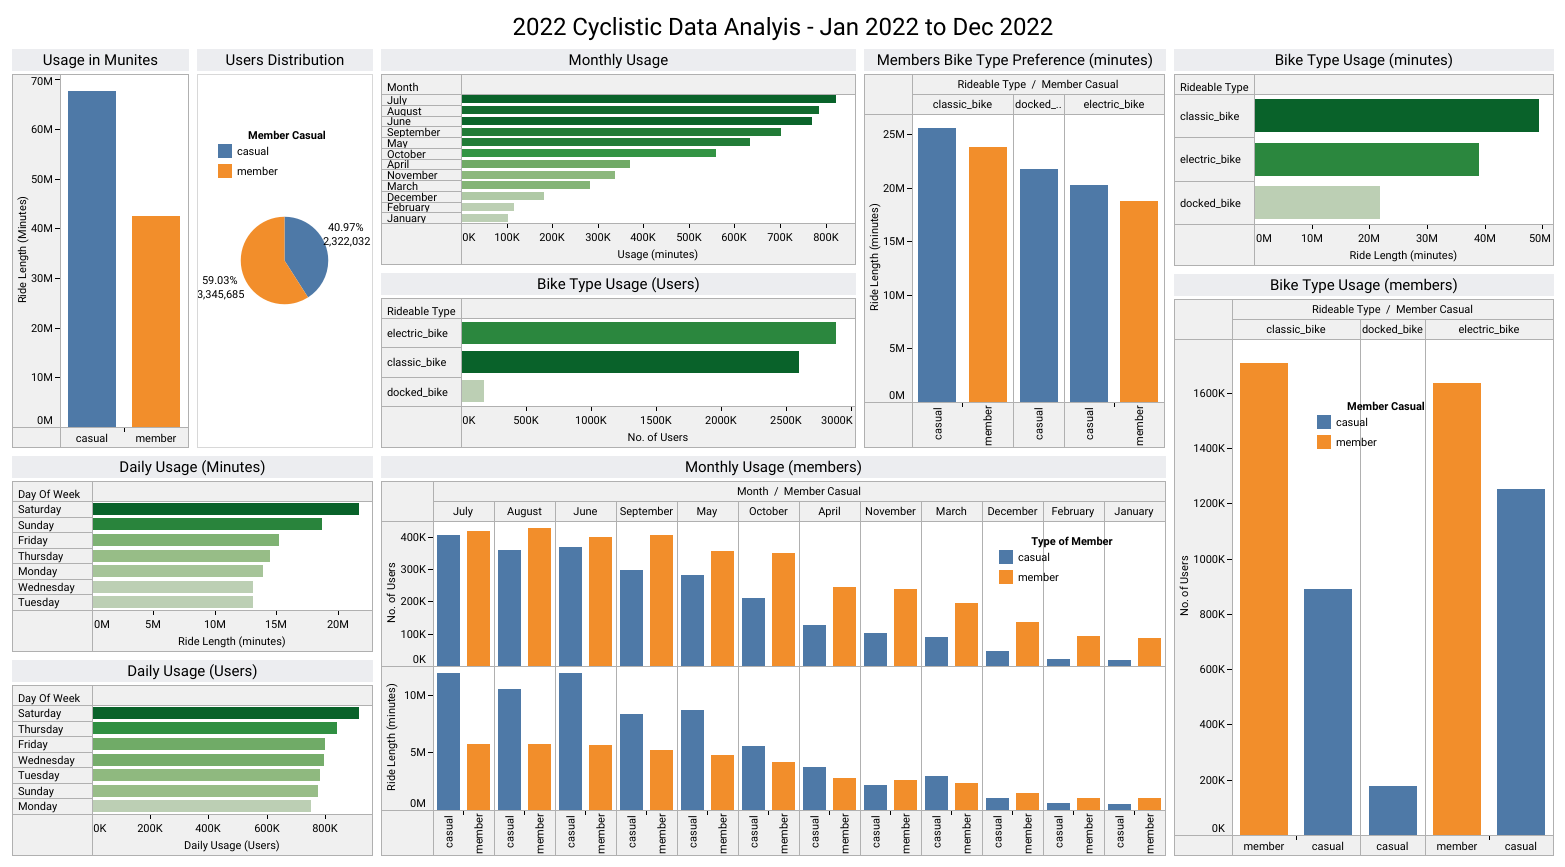

Layout of this report page (visuals, bound fields, positions):
{"tool":"tableau","page":{"name":"Dashboard 1","canvas":[1566,868],"ordinal":0},"visuals":[{"type":"title","box":[8,8,1550,40]},{"type":"worksheet","title":"Usage in Munites","mark":"Automatic","rows":["ride_length"],"cols":["member_casual"],"box":[8,48,184.5,406]},{"type":"worksheet","title":"Users Distribution","mark":"Pie","box":[192.5,48,184.4,406]},{"type":"worksheet","title":"Monthly Usage","mark":"Automatic","rows":["month"],"cols":["ride_length"],"box":[376.9,48,483.1,223]},{"type":"worksheet","title":"Members Bike Type Preference (minutes)","mark":"Automatic","rows":["ride_length"],"cols":["rideable_type","member_casual"],"box":[860,48,310.4,406]},{"type":"worksheet","title":"Bike Type Usage (minutes)","mark":"Automatic","rows":["rideable_type"],"cols":["ride_length"],"box":[1170.4,48,387.6,224]},{"type":"legend","title":"Users Distribution","param":"[federated.03ggjw102nde4i18cmdhe0396yow].[none:member_casual:nk]","box":[215,126,142,59]},{"type":"worksheet","title":"Bike Type Usage (Users)","mark":"Automatic","rows":["rideable_type"],"cols":["rideable_type"],"box":[376.9,271,483.1,183]},{"type":"worksheet","title":"Bike Type Usage (members)","mark":"Automatic","rows":["member_casual"],"cols":["rideable_type","member_casual"],"box":[1170.4,272,387.6,588]},{"type":"legend","title":"Bike Type Usage (members)","param":"[federated.03ggjw102nde4i18cmdhe0396yow].[none:member_casual:nk]","box":[1314,397,142,59]},{"type":"worksheet","title":"Daily Usage (Minutes)","mark":"Automatic","rows":["day_of_week"],"cols":["ride_length"],"box":[8,454,368.9,203]},{"type":"worksheet","title":"Monthly Usage (members)","mark":"Automatic","rows":["ride_length","ride_length"],"cols":["month","member_casual"],"box":[376.9,454,793.5,406]},{"type":"legend","title":"Usage in Munites","param":"[federated.03ggjw102nde4i18cmdhe0396yow].[none:member_casual:nk]","box":[996,532,150,67]},{"type":"worksheet","title":"Daily Usage (Users)","mark":"Automatic","rows":["day_of_week"],"cols":["day_of_week"],"box":[8,657,368.9,203]}]}

Visuals, with their boxes in screenshot pixels (x1, y1, x2, y2), scaled from the page's 1566x868 canvas onto the 1565x867 screenshot:
title: [left=8, top=8, right=1557, bottom=48]
"Usage in Munites" worksheet: [left=8, top=48, right=192, bottom=453]
"Users Distribution" worksheet (Pie marks): [left=192, top=48, right=377, bottom=453]
"Monthly Usage" worksheet: [left=377, top=48, right=859, bottom=271]
"Members Bike Type Preference (minutes)" worksheet: [left=859, top=48, right=1170, bottom=453]
"Bike Type Usage (minutes)" worksheet: [left=1170, top=48, right=1557, bottom=272]
"Users Distribution" legend: [left=215, top=126, right=357, bottom=185]
"Bike Type Usage (Users)" worksheet: [left=377, top=271, right=859, bottom=453]
"Bike Type Usage (members)" worksheet: [left=1170, top=272, right=1557, bottom=859]
"Bike Type Usage (members)" legend: [left=1313, top=397, right=1455, bottom=455]
"Daily Usage (Minutes)" worksheet: [left=8, top=453, right=377, bottom=656]
"Monthly Usage (members)" worksheet: [left=377, top=453, right=1170, bottom=859]
"Usage in Munites" legend: [left=995, top=531, right=1145, bottom=598]
"Daily Usage (Users)" worksheet: [left=8, top=656, right=377, bottom=859]
